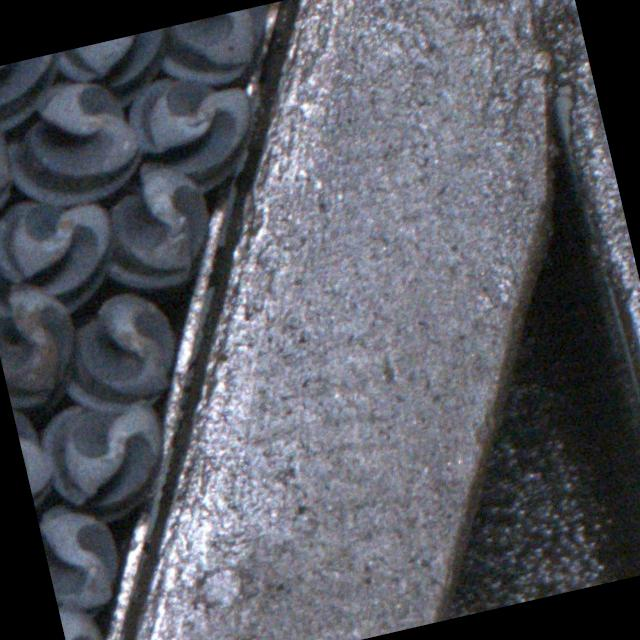tool_b: (0, 71, 153, 217), (119, 59, 264, 200), (32, 392, 175, 534), (86, 154, 222, 298), (48, 284, 186, 418), (0, 186, 126, 324), (0, 273, 87, 412), (36, 494, 126, 617), (54, 27, 181, 114), (155, 5, 276, 92), (8, 384, 65, 531), (0, 52, 69, 138), (0, 92, 20, 218), (57, 597, 115, 640)
